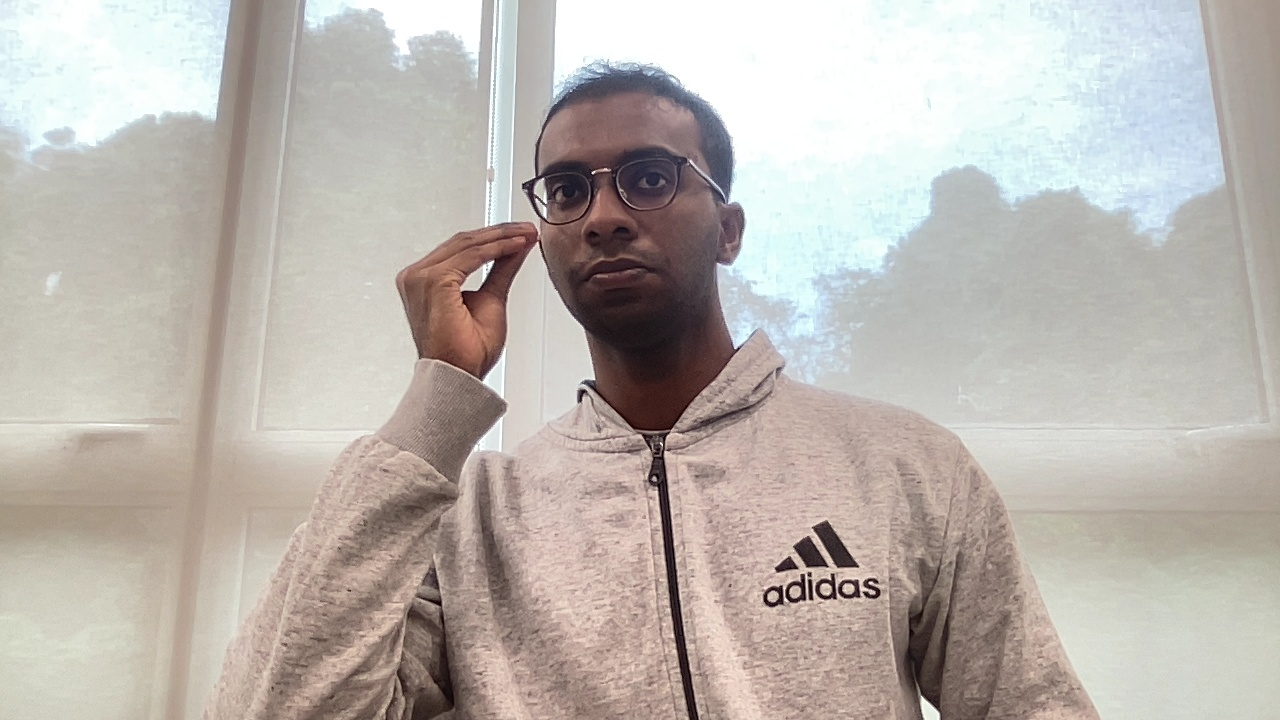eat: (390, 219, 548, 366)
